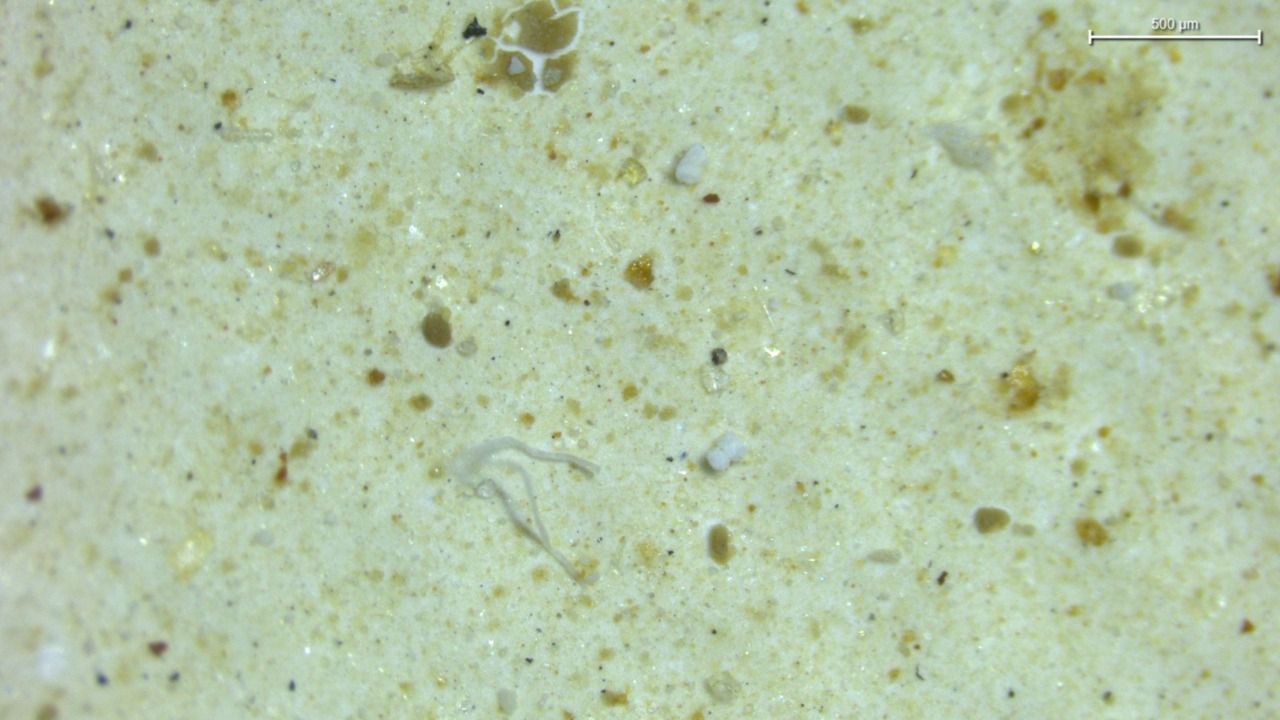microplastic_fragment: (704, 433, 747, 472), (675, 144, 708, 185)
